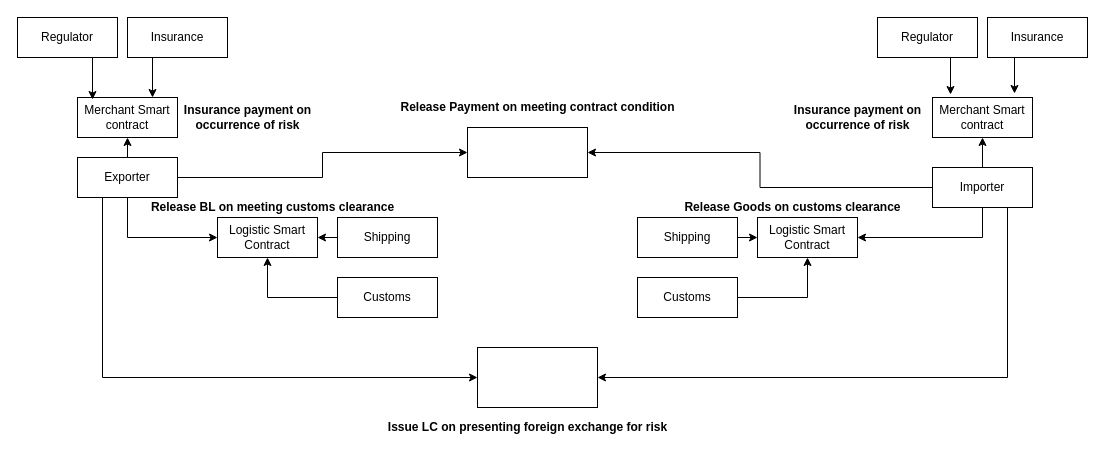
Image size: 1105x455. Some labels were removed from this diagram. Here are the shapes that lost their labels. From the top down, the centre of each, then its label:
At point (527, 152): "Trading smart contract".
At point (537, 377): "Letter of credit smart contract".
